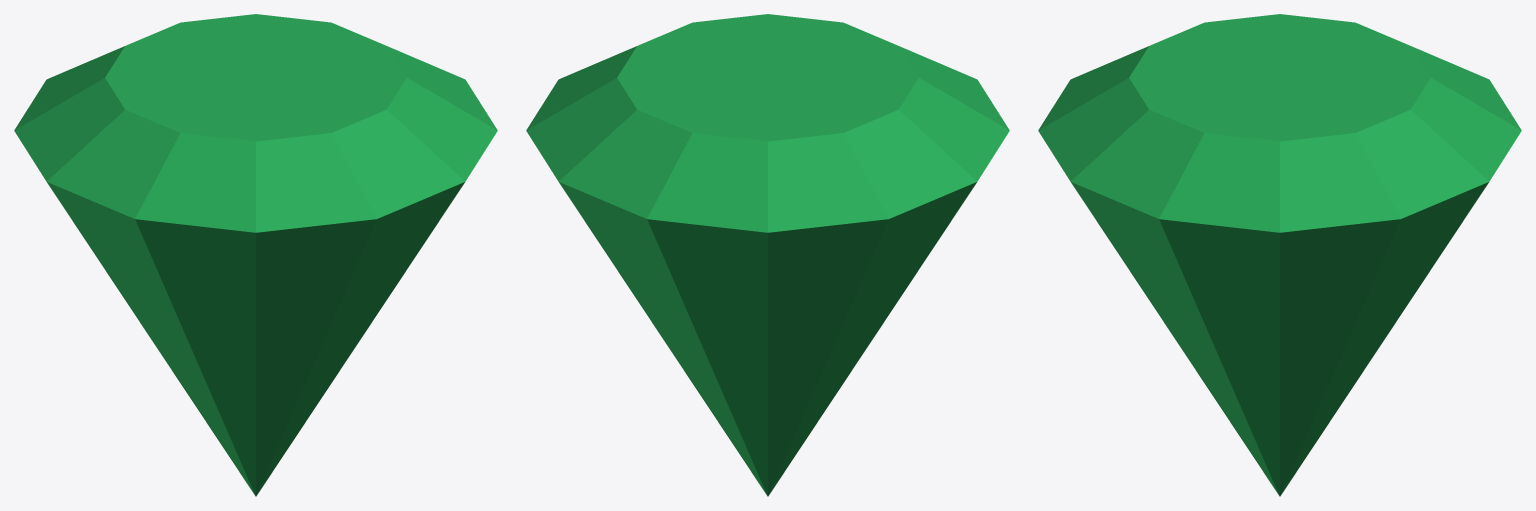
The model's file is emerald.fbx.
The picture shows the model from 3 angles, left to right: view 1: azimuth 30°, elevation 25°; view 2: azimuth 150°, elevation 25°; view 3: azimuth 270°, elevation 25°; orthographic projection.
Parts seen in each view (by area): view 1: pCone1; view 2: pCone1; view 3: pCone1.
Boxes of the visible parts, bbox=[...] form: pCone1: bbox=[14, 14, 497, 496]; pCone1: bbox=[526, 14, 1009, 496]; pCone1: bbox=[1038, 14, 1521, 496].
Size of the model in its own units: 1.77 by 1.69 by 1.77.
